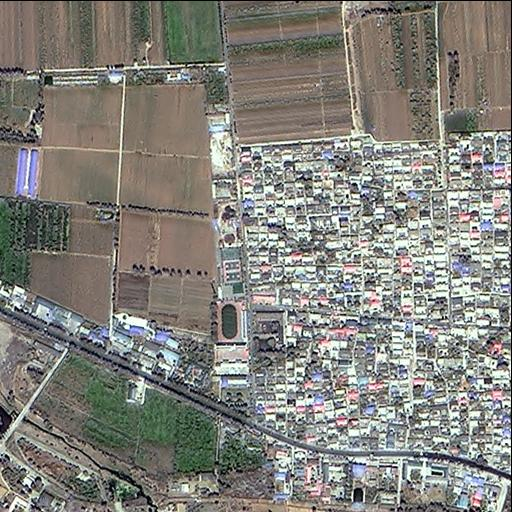school: (214, 244, 248, 388)
